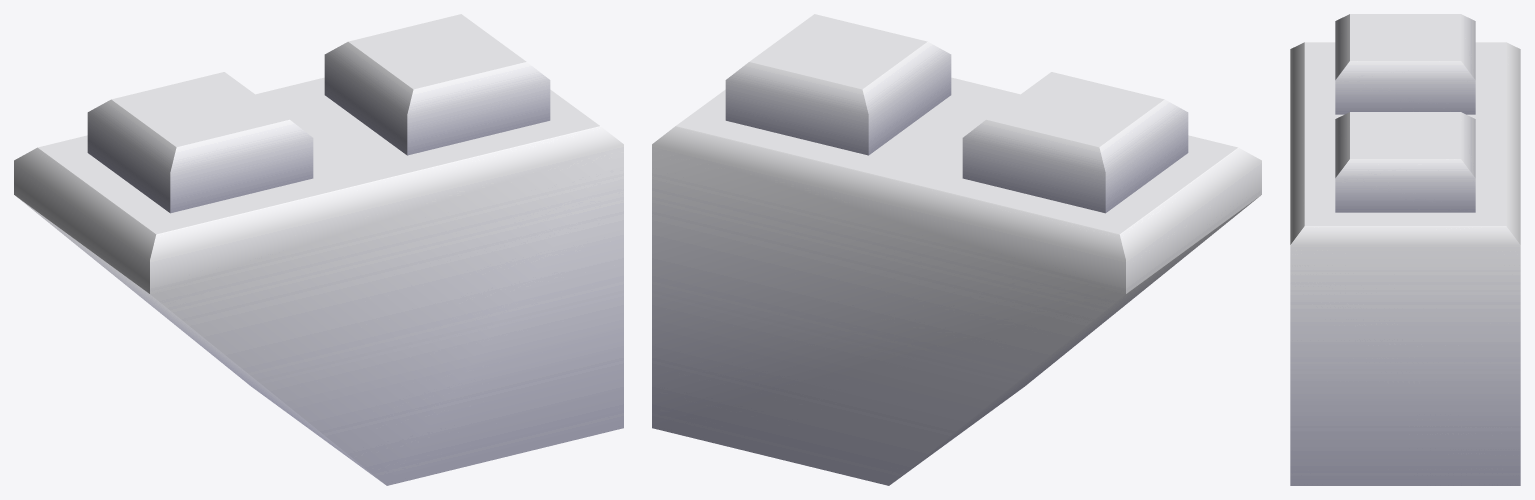
The model's file is brick-kit--square-hq-brick-slope-inverted-1x2.glb.
The picture shows the model from 3 angles, left to right: view 1: azimuth 30°, elevation 25°; view 2: azimuth 150°, elevation 25°; view 3: azimuth 270°, elevation 25°; orthographic projection. The views are drawn at different scales.
Visible parts, largest first — view 1: square-hq-brick-slope-inverted-1x2; view 2: square-hq-brick-slope-inverted-1x2; view 3: square-hq-brick-slope-inverted-1x2.
Boxes of the visible parts, x1,y1,x2,y2 form: square-hq-brick-slope-inverted-1x2: [14, 14, 623, 485]; square-hq-brick-slope-inverted-1x2: [652, 14, 1261, 485]; square-hq-brick-slope-inverted-1x2: [1290, 14, 1520, 485].
Size of the model in its own units: 0.159 by 0.114 by 0.079.
Materials: 1 (1 with a texture image).
